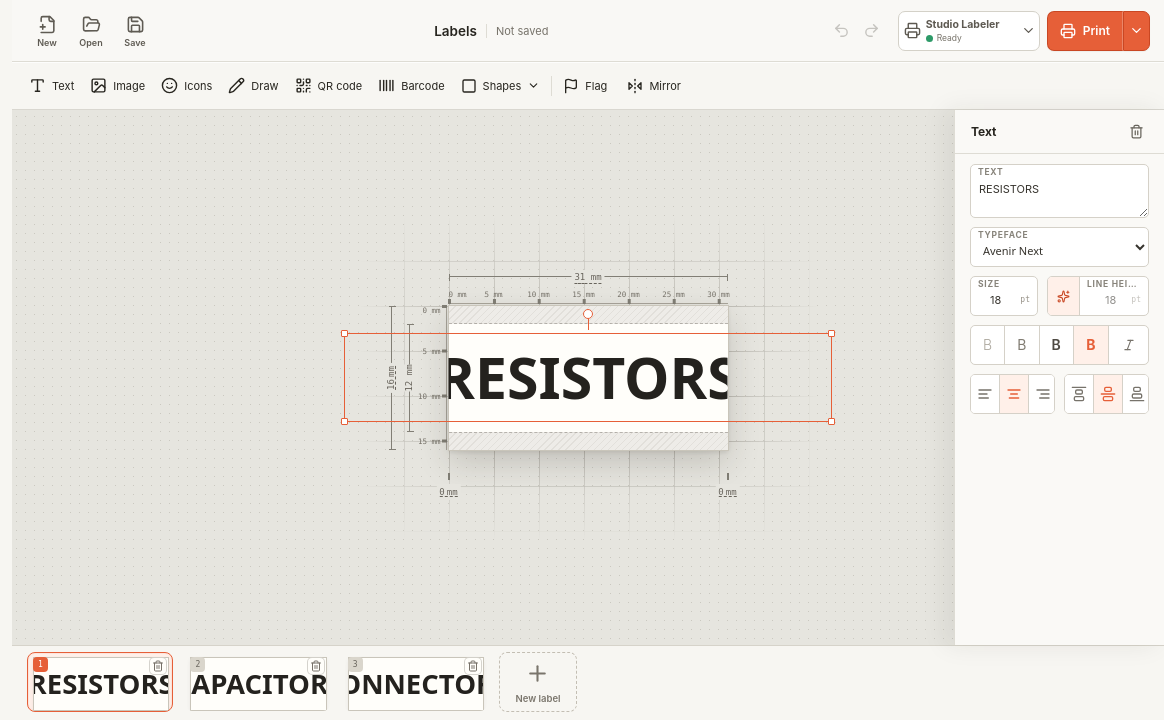
LabelmakerApp › edits text and saves through the host interface
Click the button with aria-label "Text element: RESISTORS" at coordinates (588, 378), box top-left (345, 334), bottom-right (831, 421)
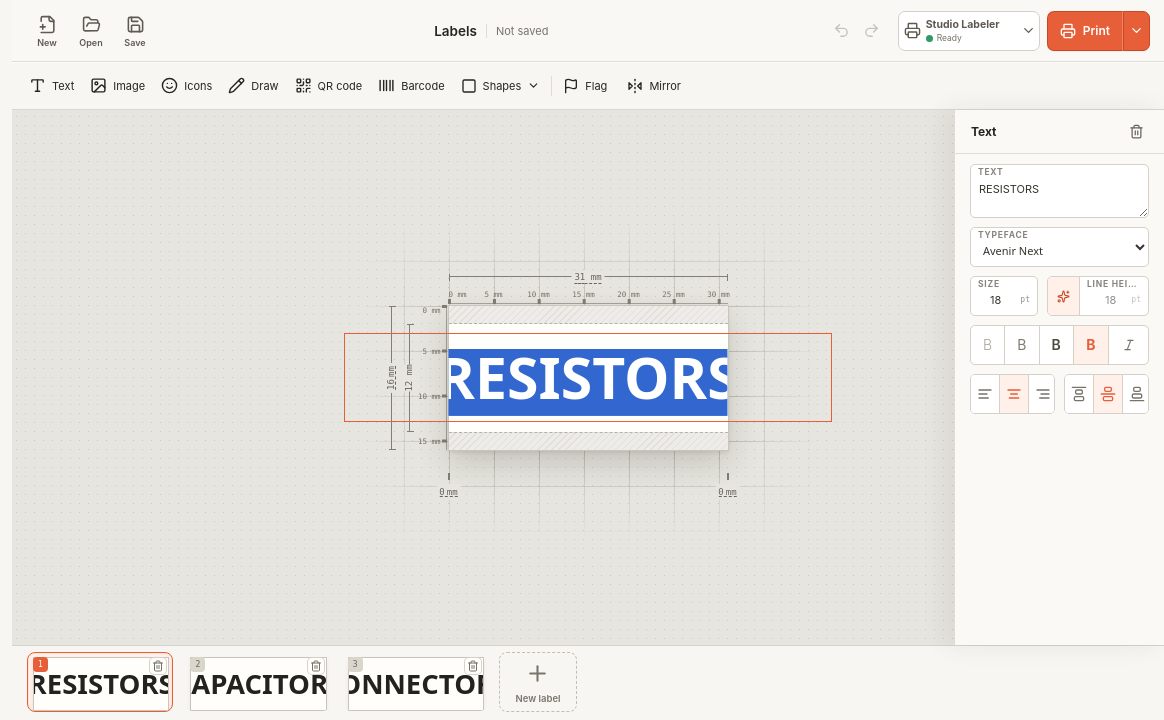
Replace the text in the text box named "Edit text on label" with "FASTENERS" at coordinates (588, 382), box top-left (345, 349), bottom-right (831, 416)
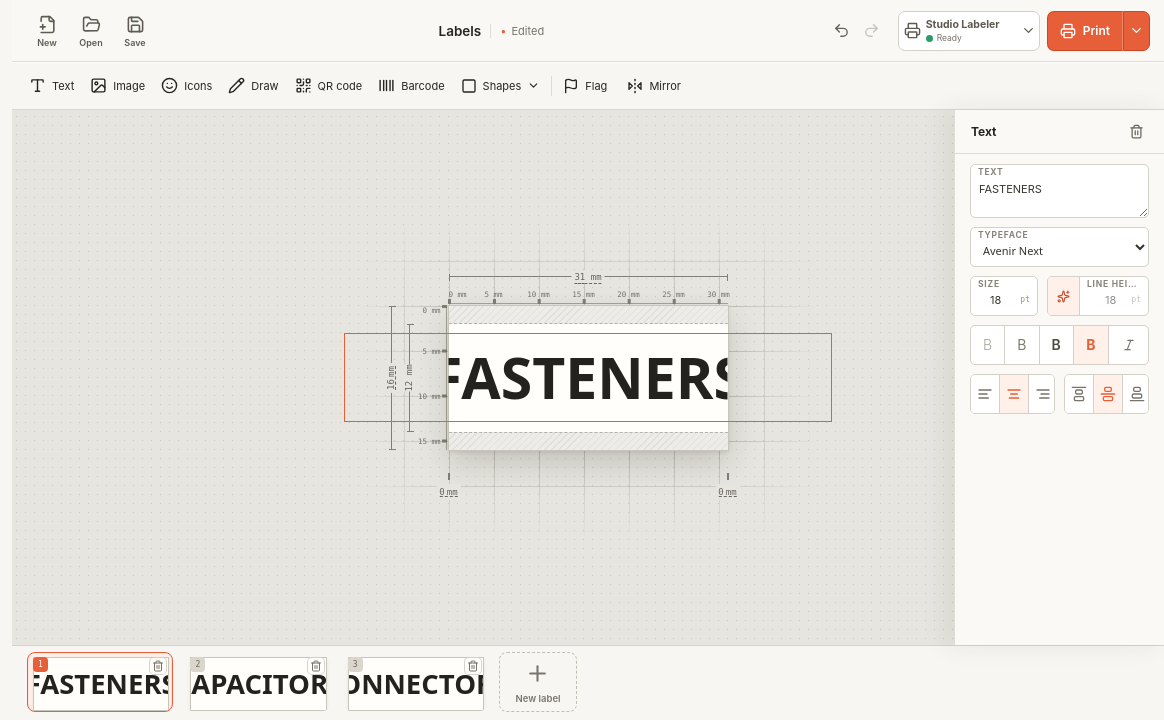
Leave the text box named "Edit text on label", box top-left (345, 349), bottom-right (831, 416)
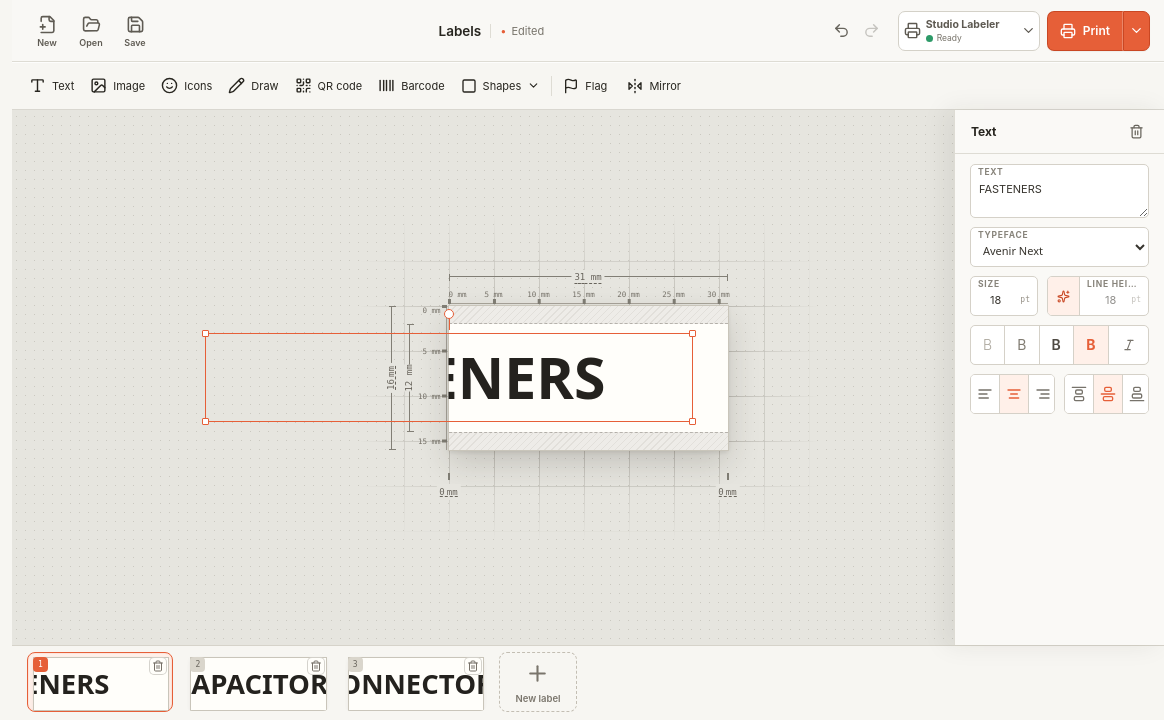
Expected: the button with aria-label "Text element: FASTENERS" is shown, top-left (206, 334), bottom-right (692, 421)
Click the button "Save" at coordinates (135, 30), box top-left (114, 6), bottom-right (156, 56)
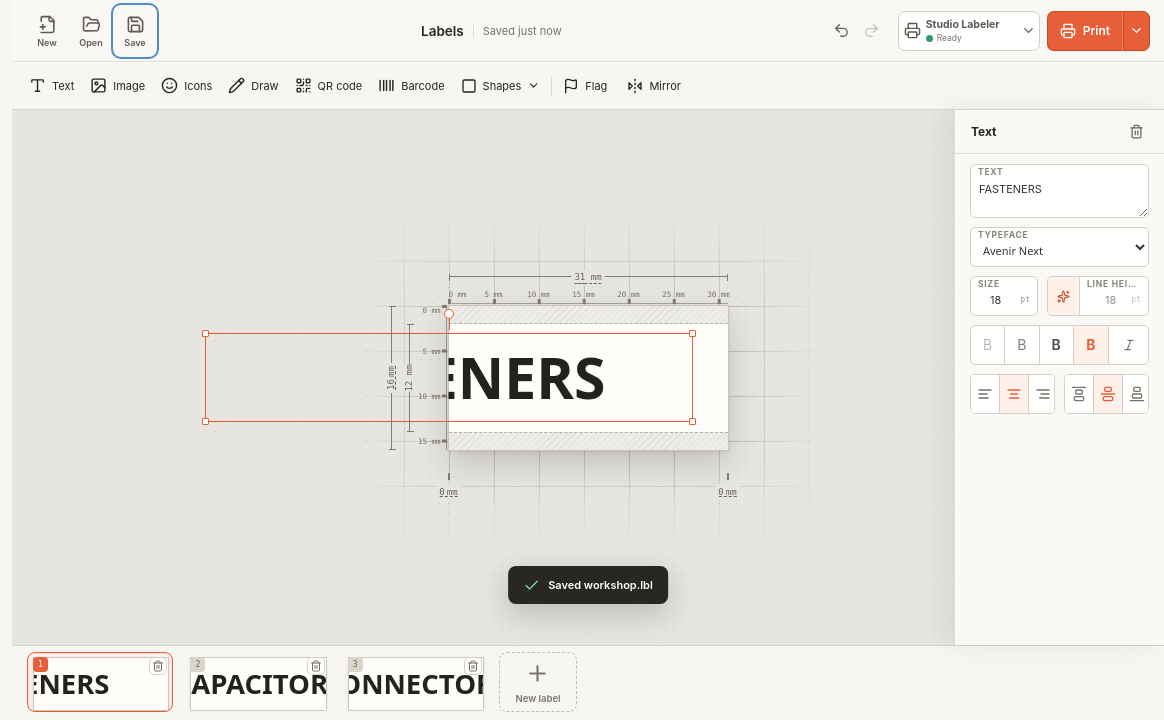
Expected: the element showing "Saved workshop.lbl" is shown, top-left (508, 566), bottom-right (668, 604)
